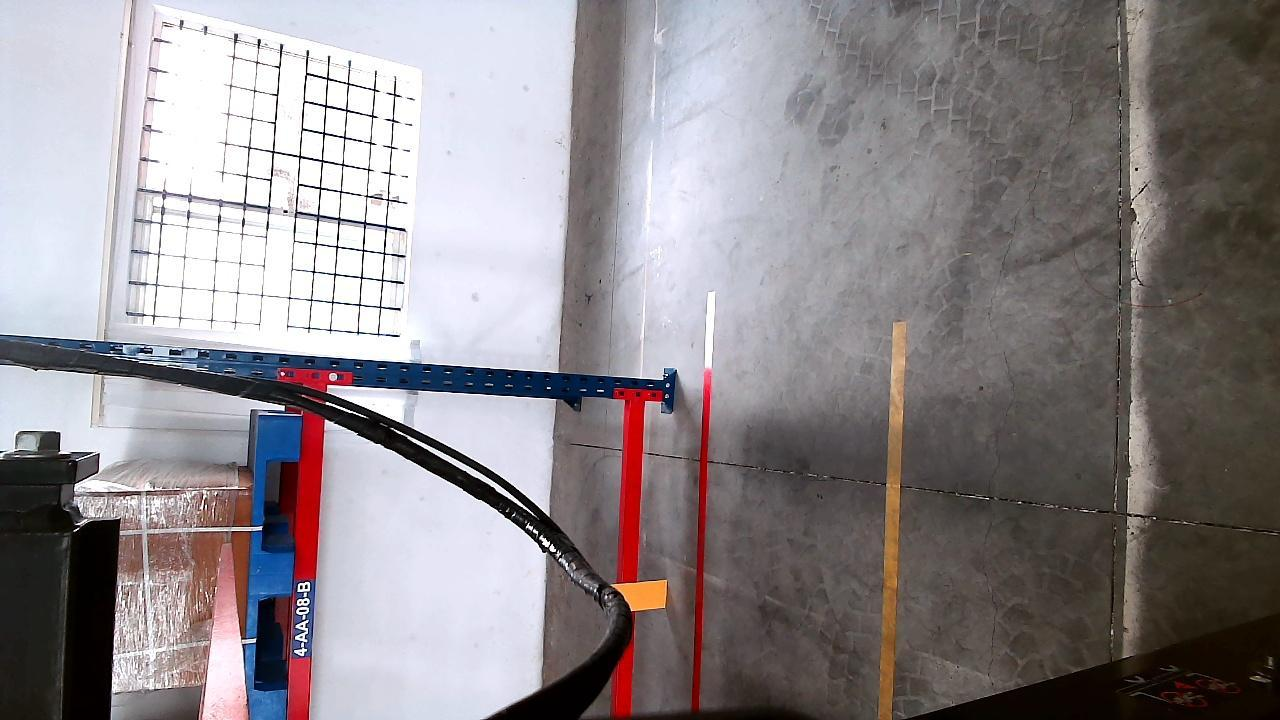red_line: (689, 289, 716, 715)
yellow_line: (878, 321, 906, 717)
